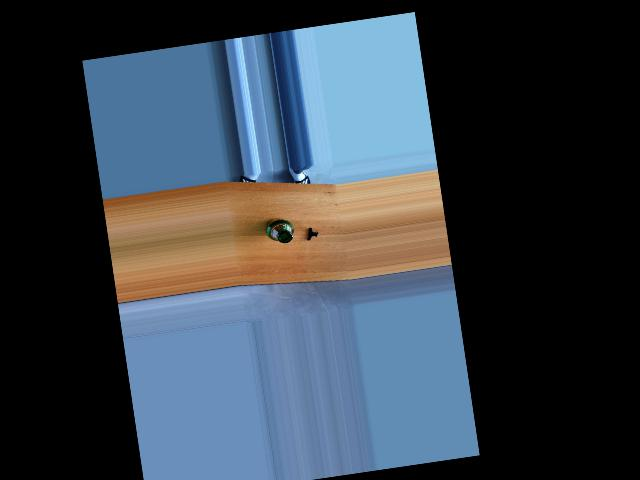beer: (264, 215, 296, 245)
